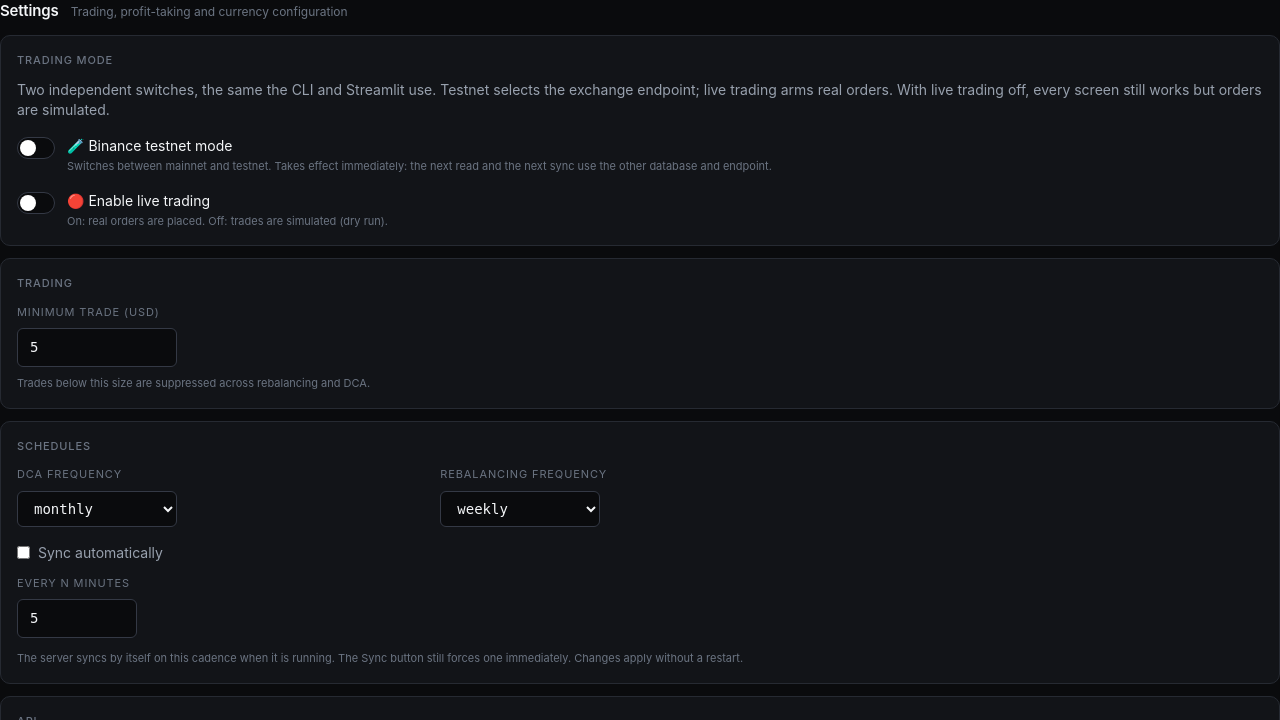
Test: Settings auto-sync save › carries the auto-sync toggle and interval in the PUT payload
expect the heading "Schedules" is shown: met, box x1=17 y1=438 x2=91 y2=452
Click the checkbox labelled "Sync automatically" at (24, 552), box x1=17 y1=546 x2=30 y2=559
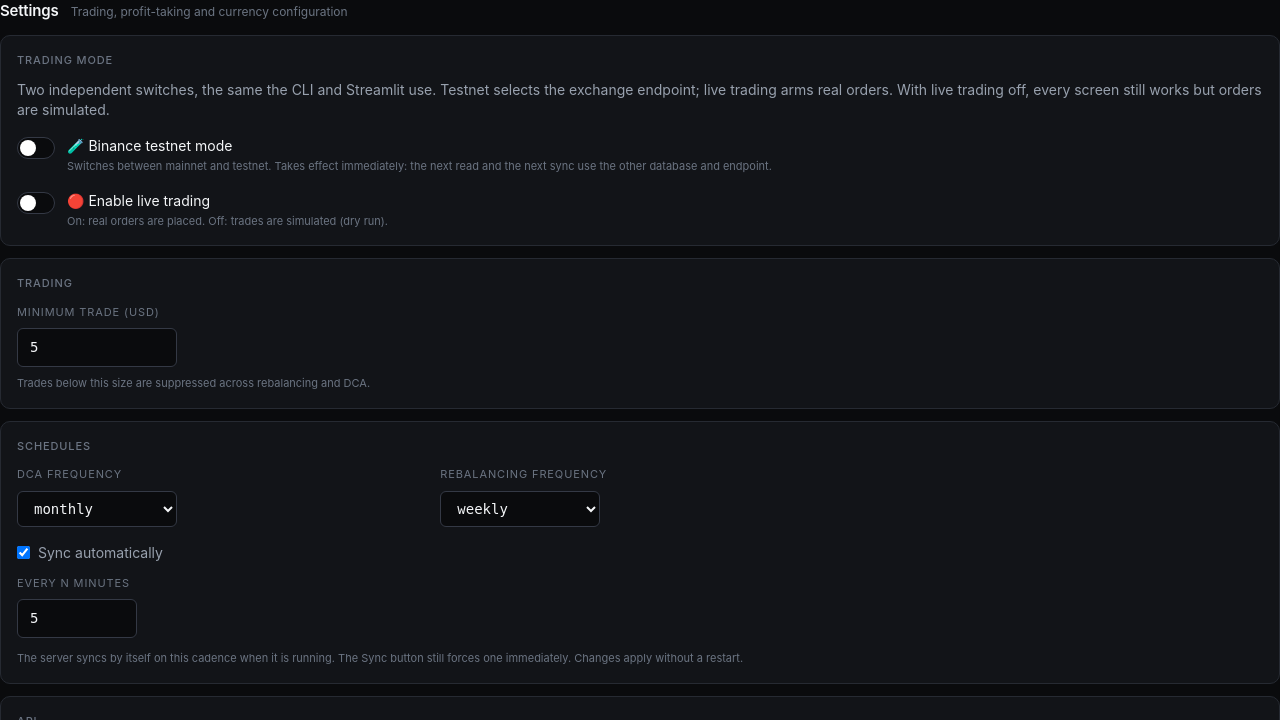
Replace the text in the number field labelled "Every N minutes" with "10" at (77, 618), box x1=17 y1=599 x2=137 y2=638
(page scrolled)
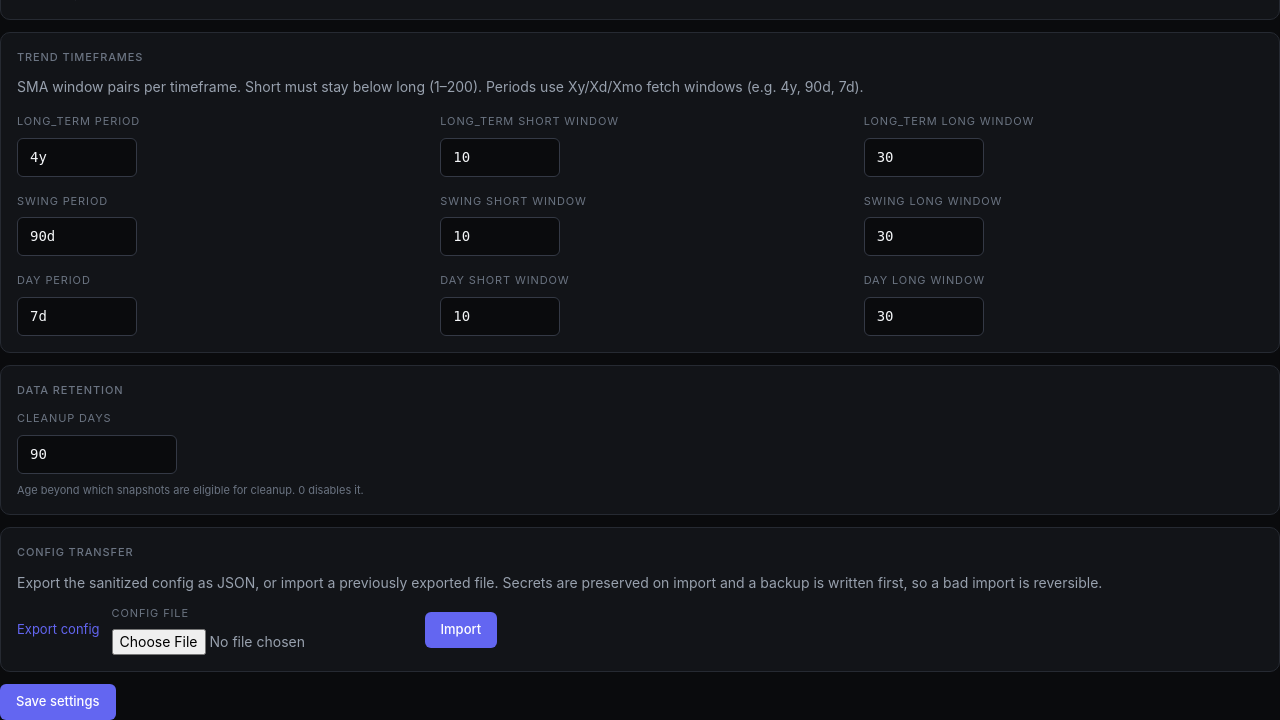
Click the button "Save settings" at (58, 702), box x1=0 y1=684 x2=116 y2=719
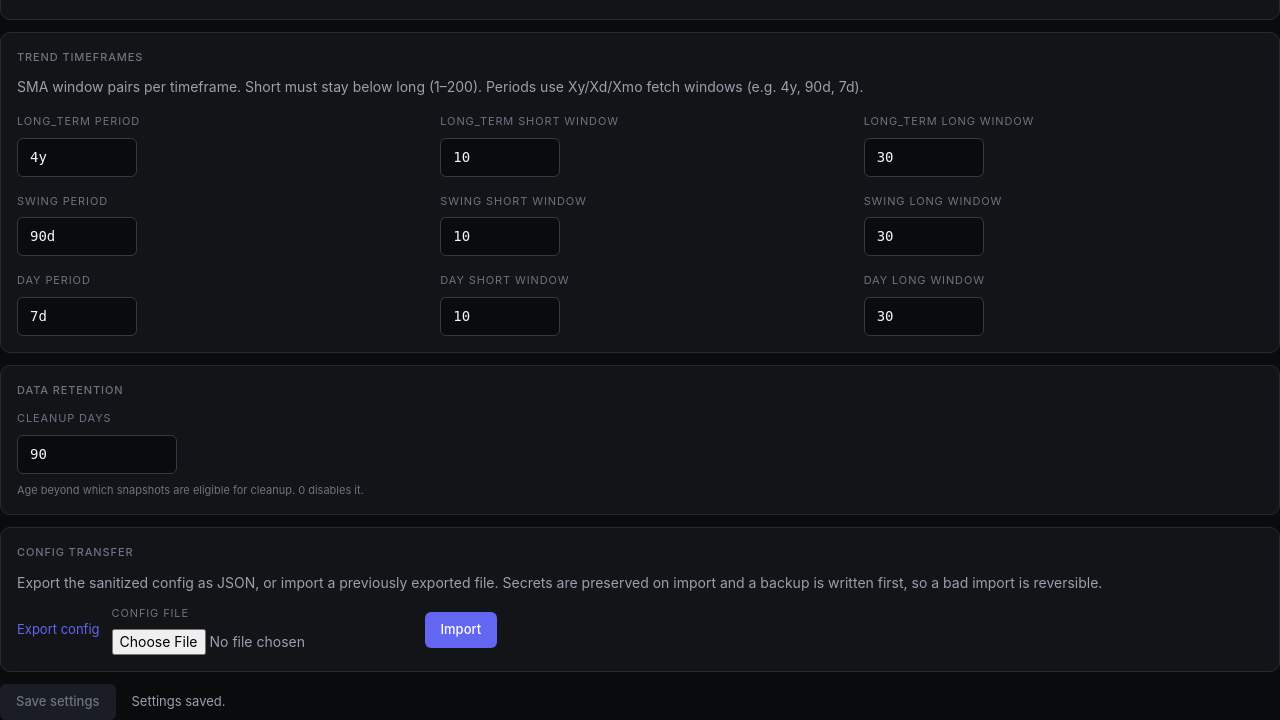
expect the text "Settings saved." is shown: met, box x1=132 y1=692 x2=226 y2=712
